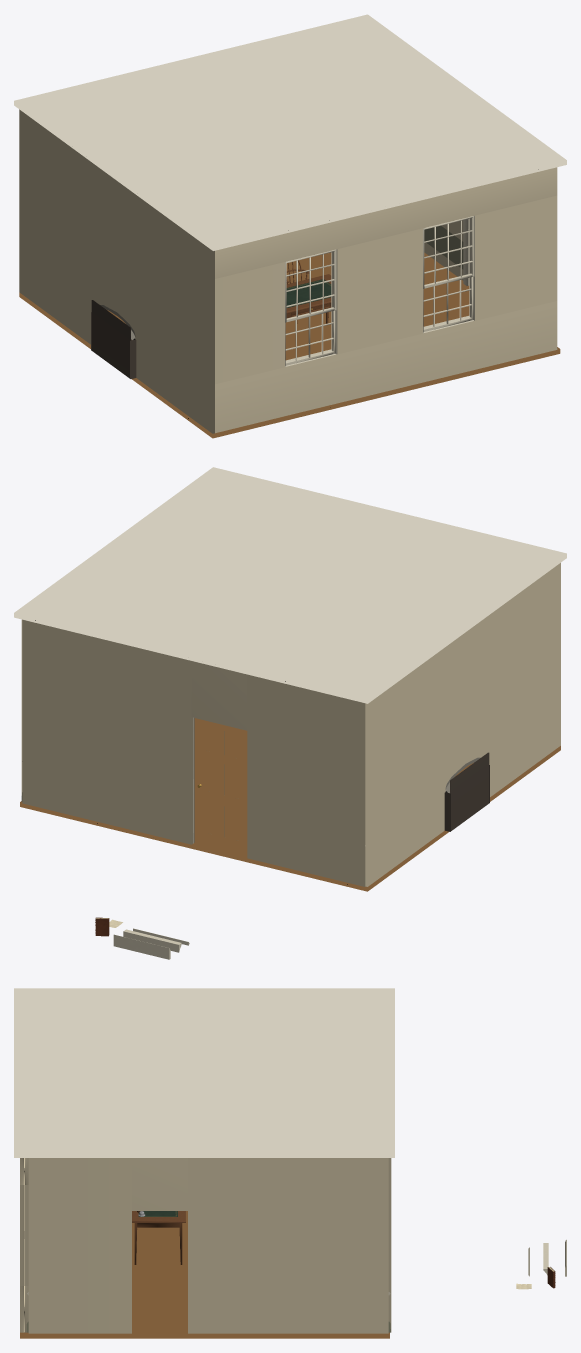
Rendered from kit-low.glb.
3 renders of one model, top to bottom at view 1: azimuth 30°, elevation 25°; view 2: azimuth 150°, elevation 25°; view 3: azimuth 270°, elevation 25°, orthographic. The views are drawn at different scales.
Visible parts, largest first — view 1: room.shell~mesh, room.joinery~mesh, window.sash.east.upper~mesh, window.sash.west.upper~mesh, window.sash.east.lower~mesh, window.sash.west.lower~mesh, table.writing.leather~mesh; view 2: room.shell~mesh, moulding.skirting~mesh; view 3: room.shell~mesh, table.writing.frame~mesh.
Boxes of the visible parts, bbox=[...] form: room.shell~mesh: bbox=[14, 14, 566, 438]; room.joinery~mesh: bbox=[285, 215, 474, 366]; window.sash.east.upper~mesh: bbox=[423, 216, 474, 288]; window.sash.west.upper~mesh: bbox=[285, 250, 336, 322]; window.sash.east.lower~mesh: bbox=[423, 273, 473, 331]; window.sash.west.lower~mesh: bbox=[285, 307, 335, 365]; table.writing.leather~mesh: bbox=[286, 279, 331, 307]; room.shell~mesh: bbox=[14, 467, 566, 891]; moulding.skirting~mesh: bbox=[113, 934, 170, 959]; room.shell~mesh: bbox=[14, 988, 394, 1338]; table.writing.frame~mesh: bbox=[134, 1223, 182, 1264].
Bounding box in the file's own units: 6.41 × 3.8 × 9.
29 materials, 14 textured.
